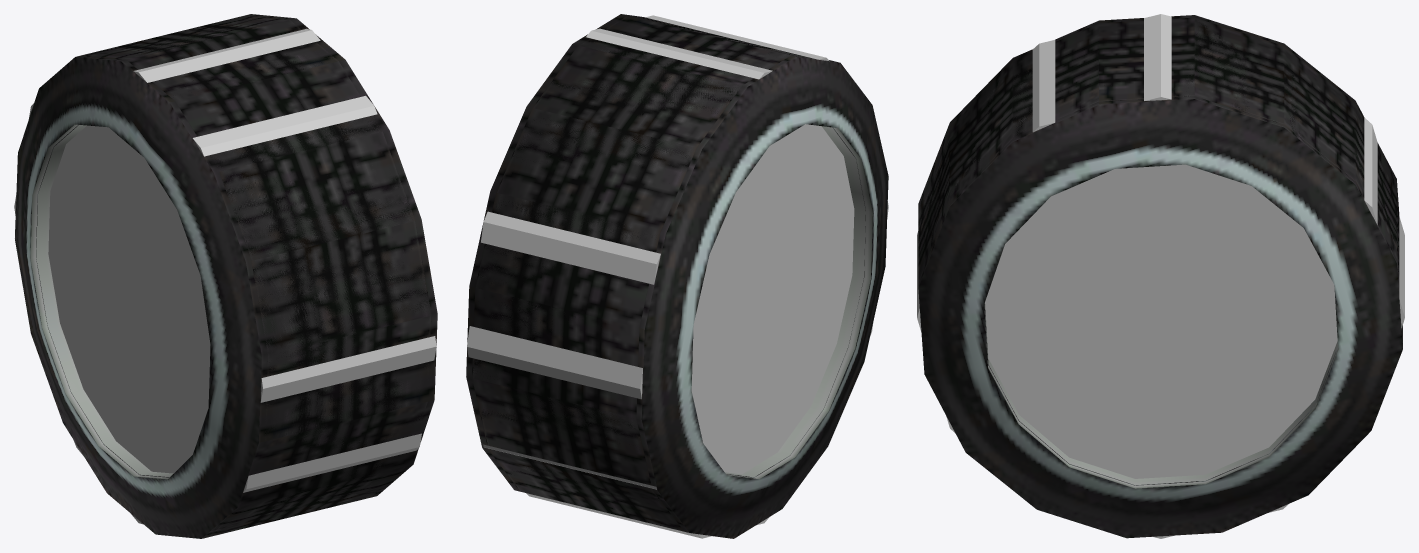
The model's file is tire_12_out.fbx.
3 views of the same model, side by side, from view 1: azimuth 30°, elevation 25°; view 2: azimuth 150°, elevation 25°; view 3: azimuth 270°, elevation 25° (orthographic).
Visible parts, largest first — view 1: Surface8, tire_rr_shadow, Surface4, Surface6, tire_fl_shadow, Surface10, Surface5, Surface9, tire_fr_shadow, Surface11; view 2: Surface4, tire_rr_shadow, Surface8, Surface6, tire_fl_shadow, Surface10, Surface11, Surface9, Surface5; view 3: tire_rr_shadow, Surface10, Surface4, Surface6, Surface8, tire_fl_shadow, Surface7, Surface11, Surface9.
Part boxes in pixels (x1,y1,x2,y2): Surface8: (15,15,430,538); tire_rr_shadow: (14,28,436,524); Surface4: (81,15,430,505); Surface6: (142,15,431,537); tire_fl_shadow: (140,30,413,491); Surface10: (97,14,437,497); Surface5: (36,125,169,477); Surface9: (30,124,168,479); tire_fr_shadow: (268,338,429,395); Surface11: (36,124,173,477); Surface4: (473,15,811,524); tire_rr_shadow: (467,15,888,538); Surface8: (472,46,888,538); Surface6: (472,45,740,501); tire_fl_shadow: (473,17,819,512); Surface10: (466,14,747,531); Surface11: (725,126,865,477); Surface9: (726,127,872,479); Surface5: (725,128,865,477); tire_rr_shadow: (917,14,1404,538); Surface10: (918,18,1402,538); Surface4: (928,17,1402,344); Surface6: (918,18,1402,335); Surface8: (918,15,1402,334); tire_fl_shadow: (1032,19,1404,250); Surface7: (984,285,1338,485); Surface11: (984,305,1338,488); Surface9: (1205,341,1337,480).
Bounding box in the file's own units: 0.319 × 0.6498 × 0.6502.
